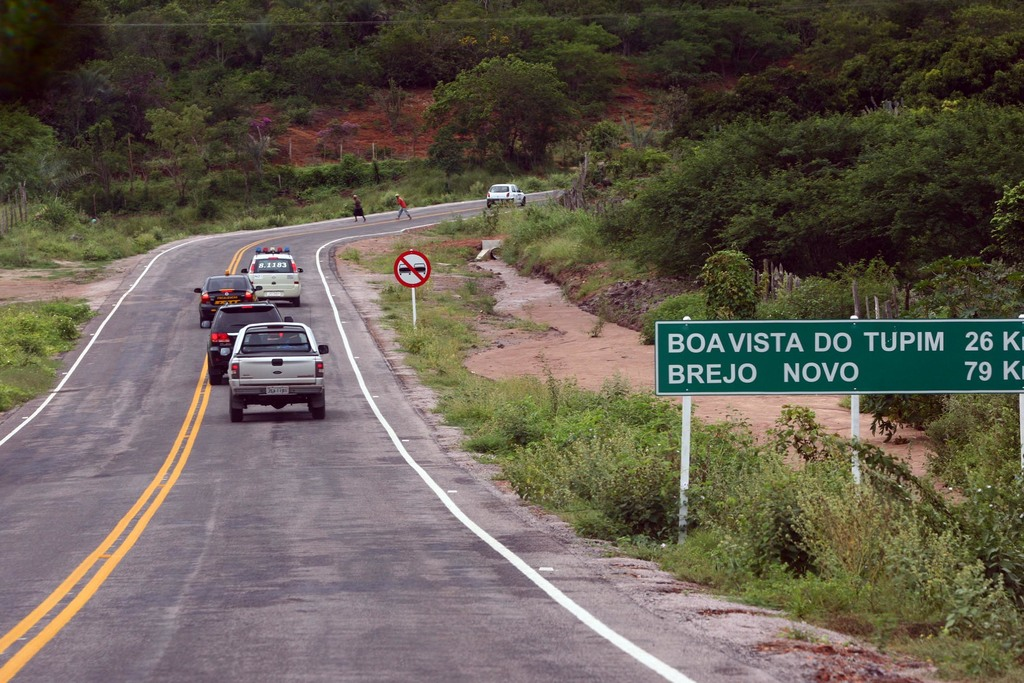mobil: (222, 323, 335, 423), (246, 246, 304, 306), (485, 181, 526, 213)
